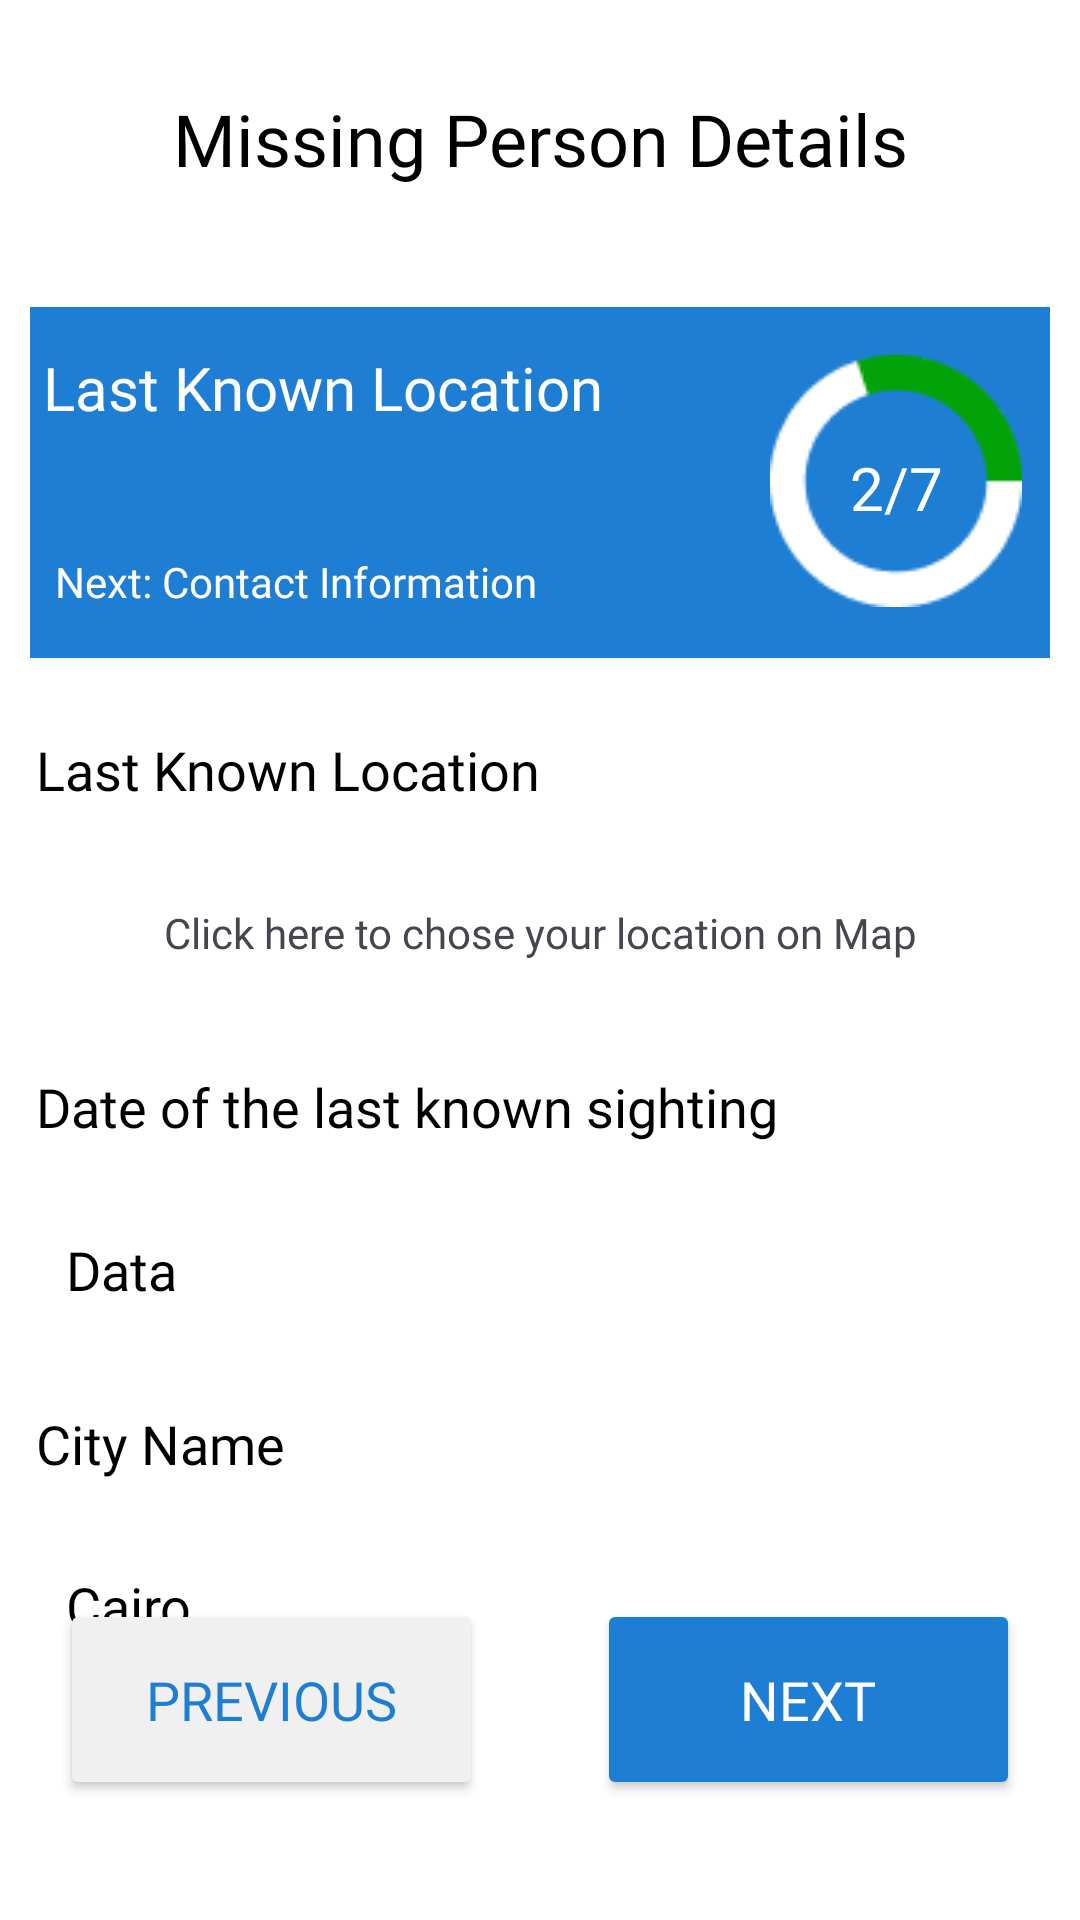

Icon click points for this 1080px x 1920px phone screenshot, format point (x, y):
step: point (896, 481)
